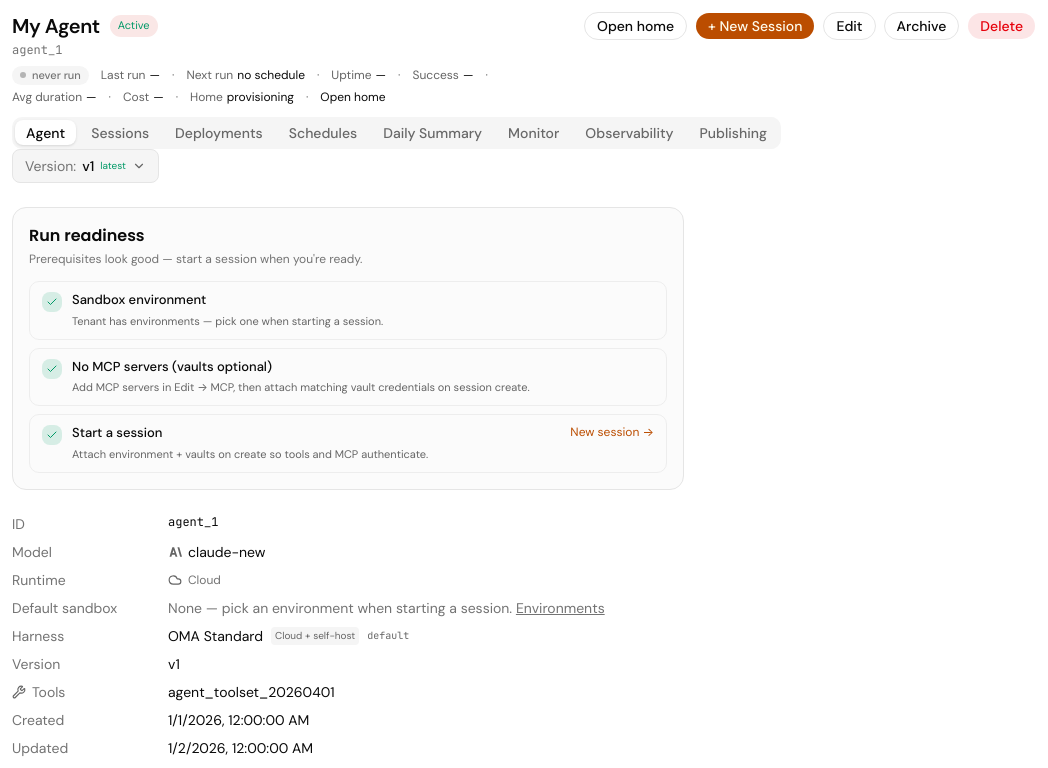
it: <AgentOverviewTab /> version picker › still lists the current version when the versions endpoint returns none
Expected: the heading "My Agent" is shown, [12,12,100,40]
Click the button "Version: v1 latest": [86, 166] box [12,149,159,183]
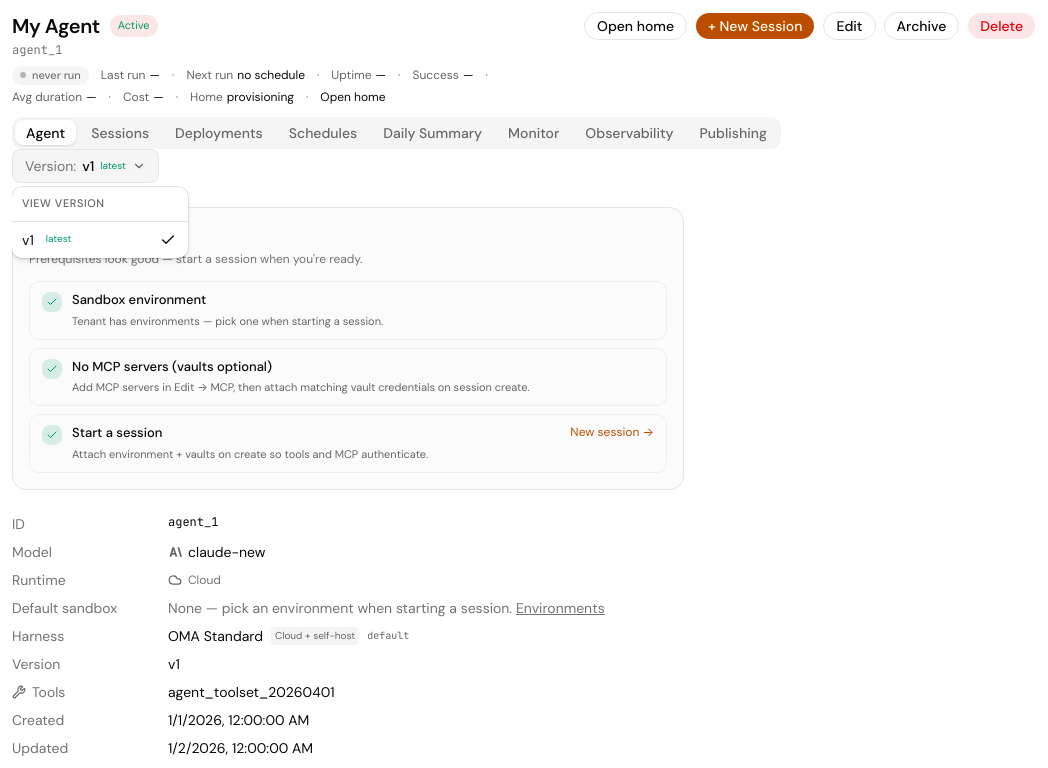
Expected: the number of menu items is 1, [16,226,184,254]
Expected: the menu item shows "v1", [16,226,184,254]
Expected: the menu item shows "latest", [46,232,72,246]
